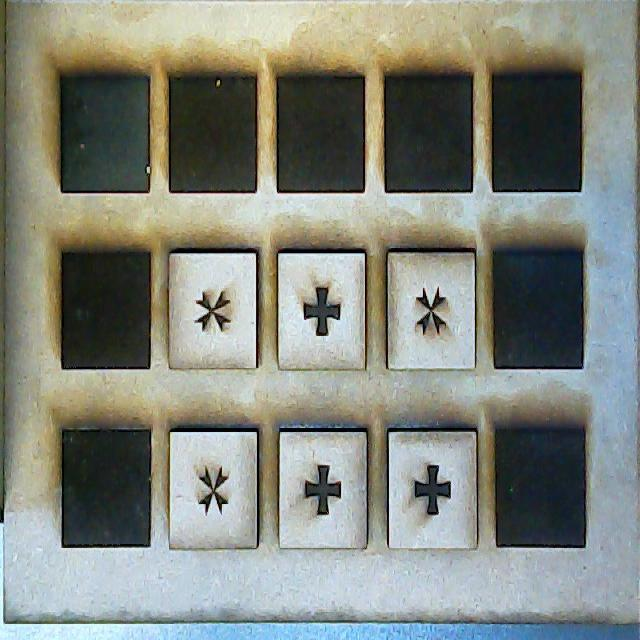maltese: (168, 248, 260, 372), (388, 252, 474, 369), (172, 432, 259, 544)
temple: (279, 252, 367, 374), (276, 430, 368, 546), (391, 430, 476, 549)
